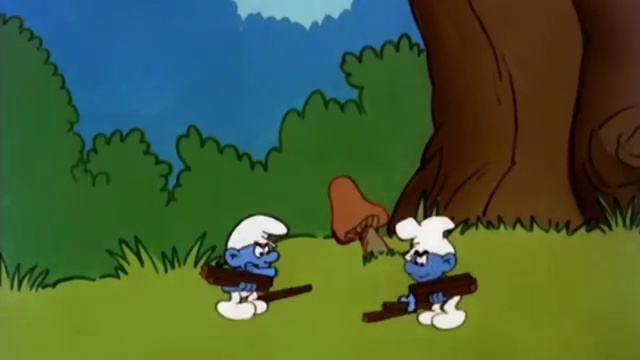smurf: (393, 212, 468, 331), (214, 212, 289, 322)
